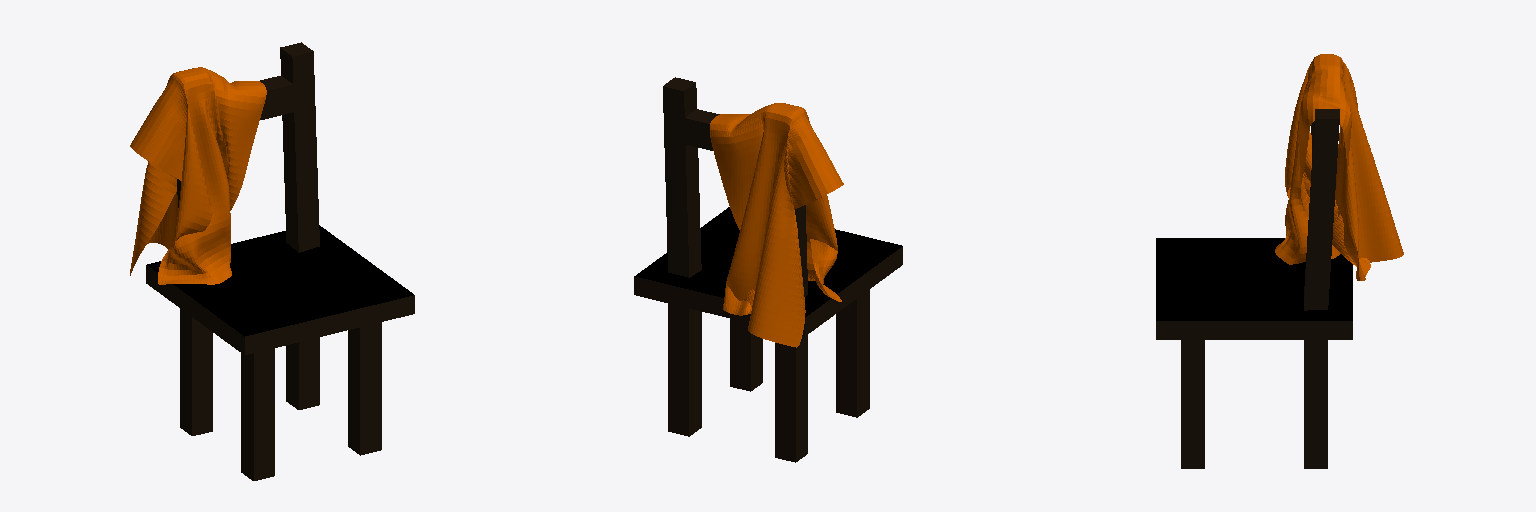
Rendered from stol.obj.
3 views of the same model, side by side, from view 1: azimuth 30°, elevation 25°; view 2: azimuth 150°, elevation 25°; view 3: azimuth 270°, elevation 25° (orthographic).
Parts seen in each view (by area): view 1: stol_Cube, filt_Plane; view 2: stol_Cube, filt_Plane; view 3: stol_Cube, filt_Plane.
Boxes of the visible parts, x1,y1,x2,y2 form: stol_Cube: [146, 42, 414, 480]; filt_Plane: [130, 67, 266, 284]; stol_Cube: [634, 77, 902, 462]; filt_Plane: [710, 103, 843, 347]; stol_Cube: [1156, 109, 1352, 468]; filt_Plane: [1275, 54, 1403, 280].
Size of the model in its own units: 2.28 by 3.96 by 2.52.